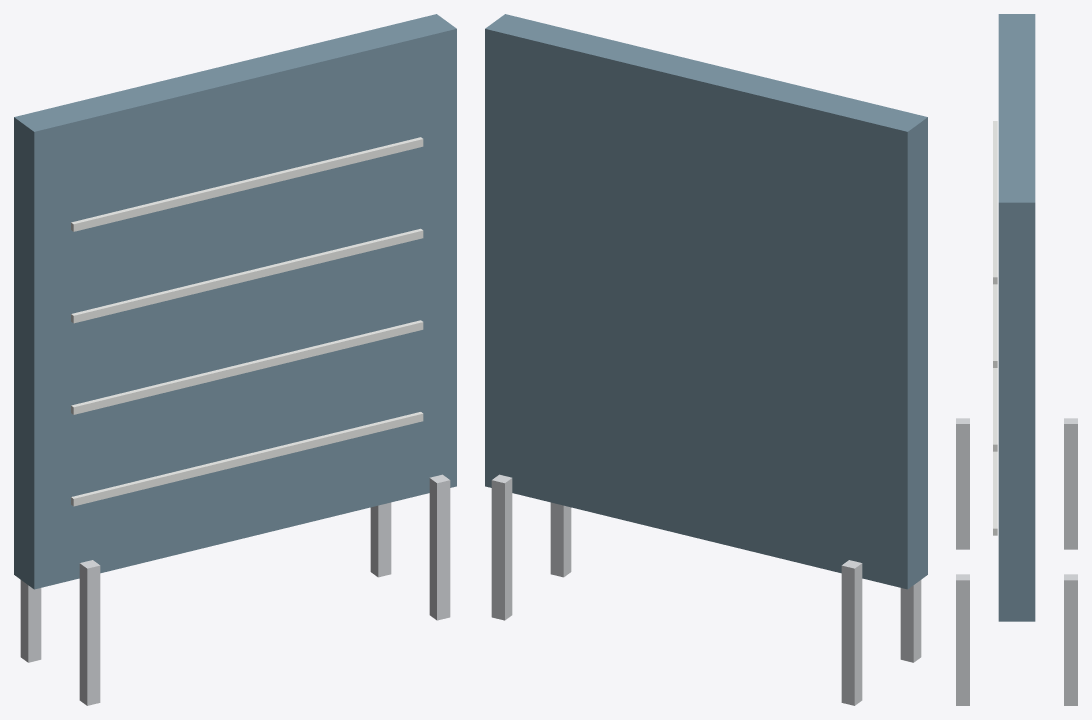
The model's file is road-car-showroom-lineup-price-board-375ff47e__15147.glb.
The picture shows the model from 3 angles, left to right: view 1: azimuth 30°, elevation 25°; view 2: azimuth 150°, elevation 25°; view 3: azimuth 270°, elevation 25°; orthographic projection. The views are drawn at different scales.
Parts seen in each view (by area): view 1: price-board; view 2: price-board; view 3: price-board.
Part boxes in pixels (bbox=[...]): price-board: bbox=[14, 14, 456, 705]; price-board: bbox=[485, 14, 927, 705]; price-board: bbox=[956, 14, 1077, 705].
Size of the model in its own units: 1.45 by 1.85 by 0.395.
